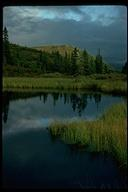grass: (74, 123, 122, 142)
mountain: (3, 37, 116, 72)
water: (6, 79, 125, 191)
